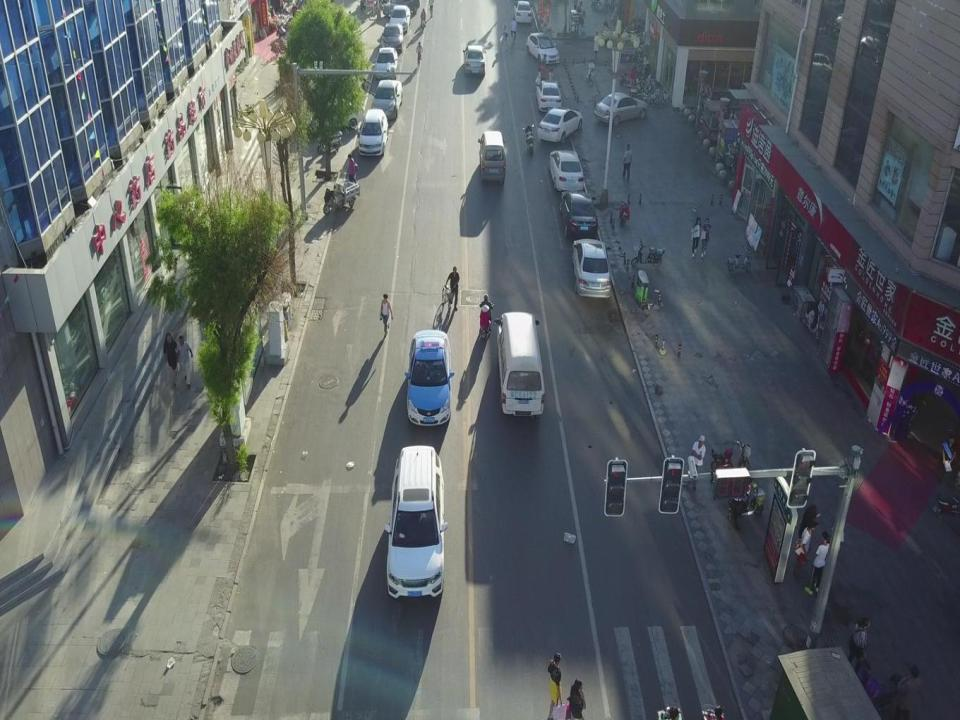car: (387, 444, 444, 594), (411, 330, 452, 422), (572, 240, 614, 297), (306, 96, 363, 130), (594, 92, 650, 124), (560, 189, 598, 235), (538, 106, 583, 142), (550, 151, 586, 190), (358, 110, 385, 154), (526, 33, 560, 62), (373, 80, 400, 115), (536, 79, 562, 111), (374, 47, 398, 77), (462, 44, 484, 75), (380, 23, 403, 50), (380, 0, 420, 13), (389, 5, 409, 30), (513, 0, 532, 23)
van: (498, 313, 545, 413), (481, 131, 507, 181)
